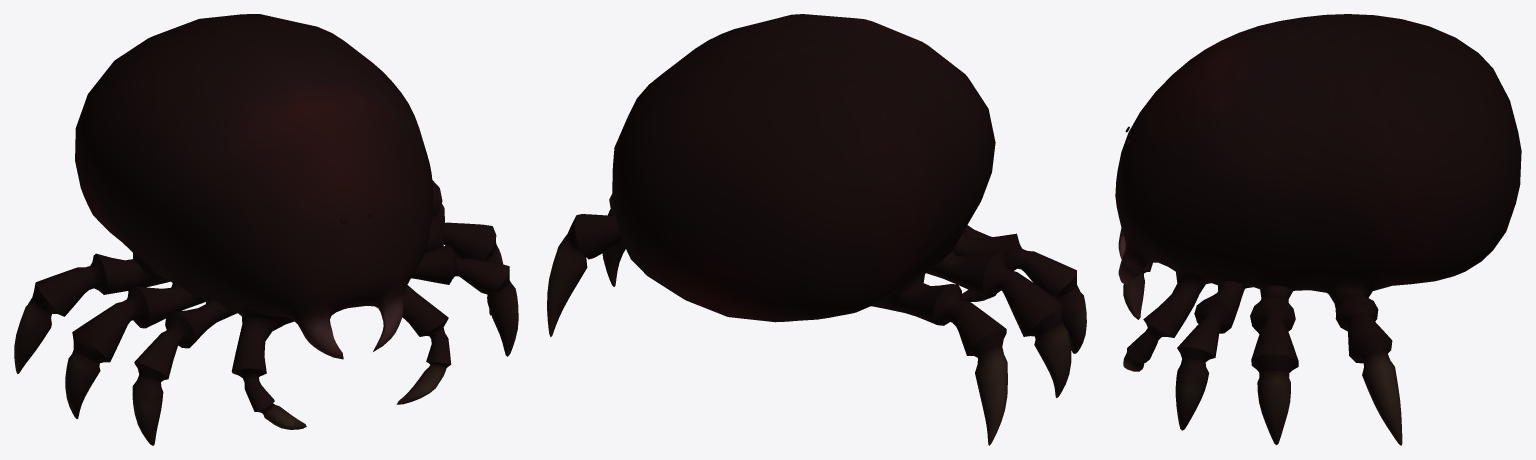
Rendered from flea_lp.fbx.
3 views of the same model, side by side, from view 1: azimuth 30°, elevation 25°; view 2: azimuth 150°, elevation 25°; view 3: azimuth 270°, elevation 25° (orthographic). The views are drawn at different scales.
Parts seen in each view (by area): view 1: flea_smol; view 2: flea_smol; view 3: flea_smol.
Part boxes in pixels (left/top/right/bottom): flea_smol: left=14, top=14, right=518, bottom=445; flea_smol: left=547, top=14, right=1086, bottom=445; flea_smol: left=1115, top=14, right=1521, bottom=445.
Bounding box in the file's own units: 47.81 × 32.4 × 38.07.
